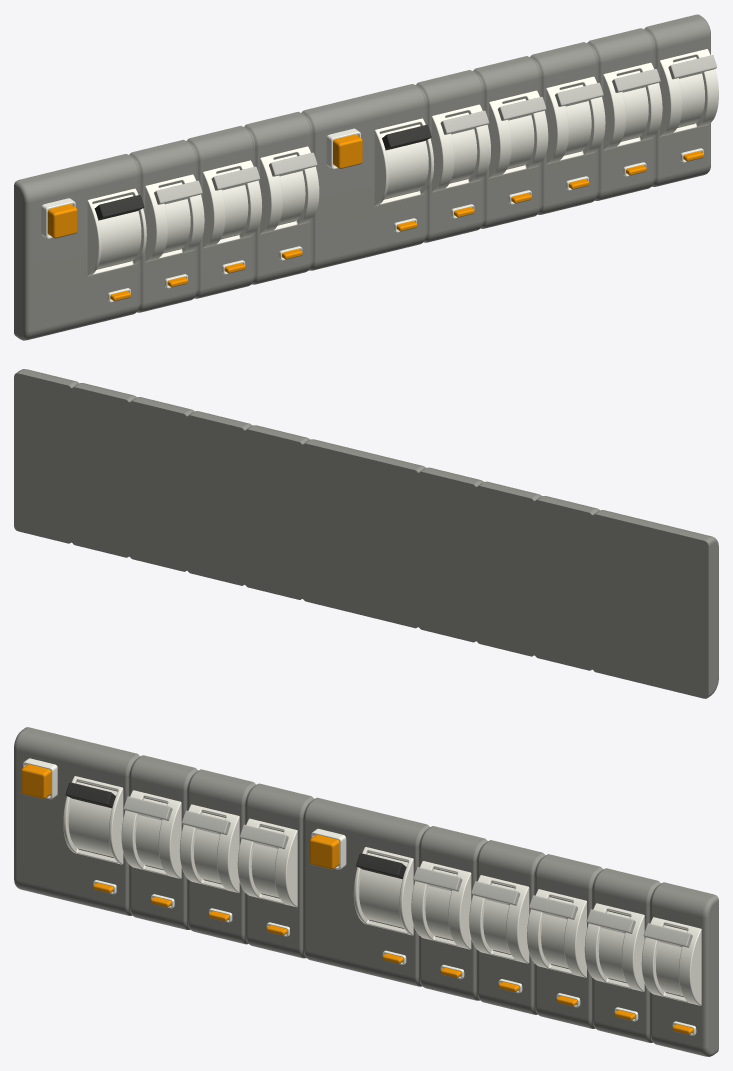
File: Many Breakers.fbx
3 renders of one model, top to bottom at view 1: azimuth 30°, elevation 25°; view 2: azimuth 150°, elevation 25°; view 3: azimuth 330°, elevation 25°, orthographic.
Parts seen in each view (by area): view 1: kitbash_66; view 2: kitbash_66; view 3: kitbash_66.
Boxes of the visible parts, x1,y1,x2,y2 form: kitbash_66: (14,14,718,340); kitbash_66: (14,369,718,698); kitbash_66: (14,727,718,1056).
Size of the model in its own units: 23 by 5 by 1.41.
